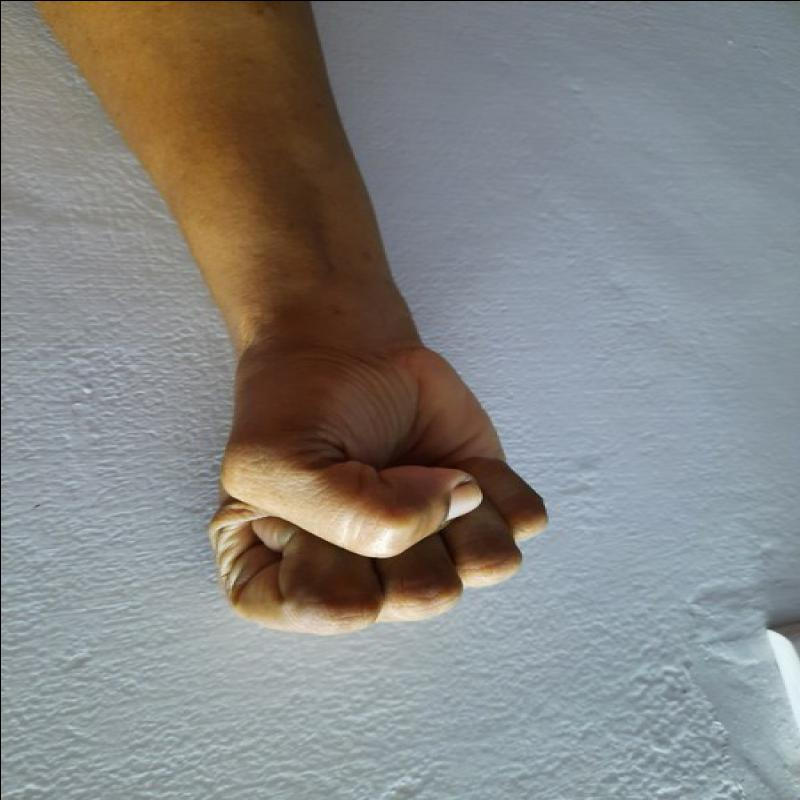Mushti: (200, 289, 555, 646)
